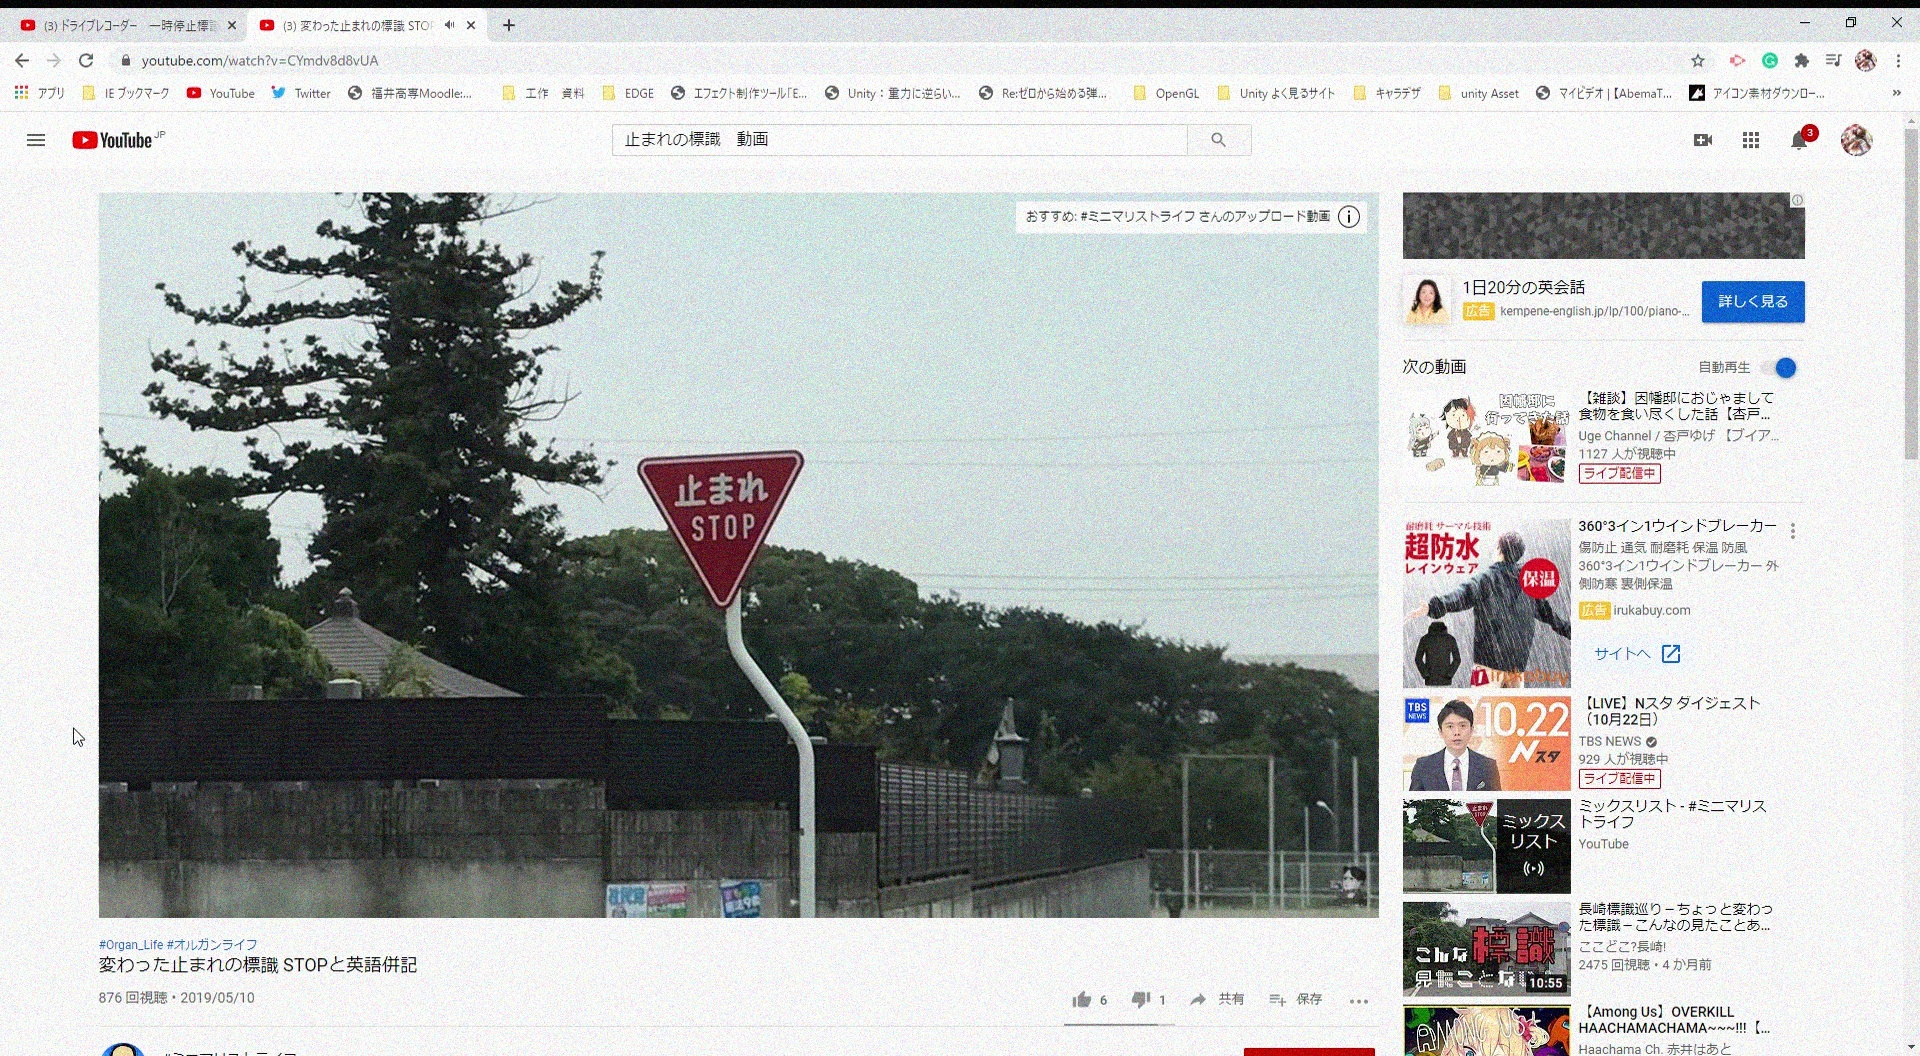Regulatory_sign_triangle: (638, 428, 825, 633)
